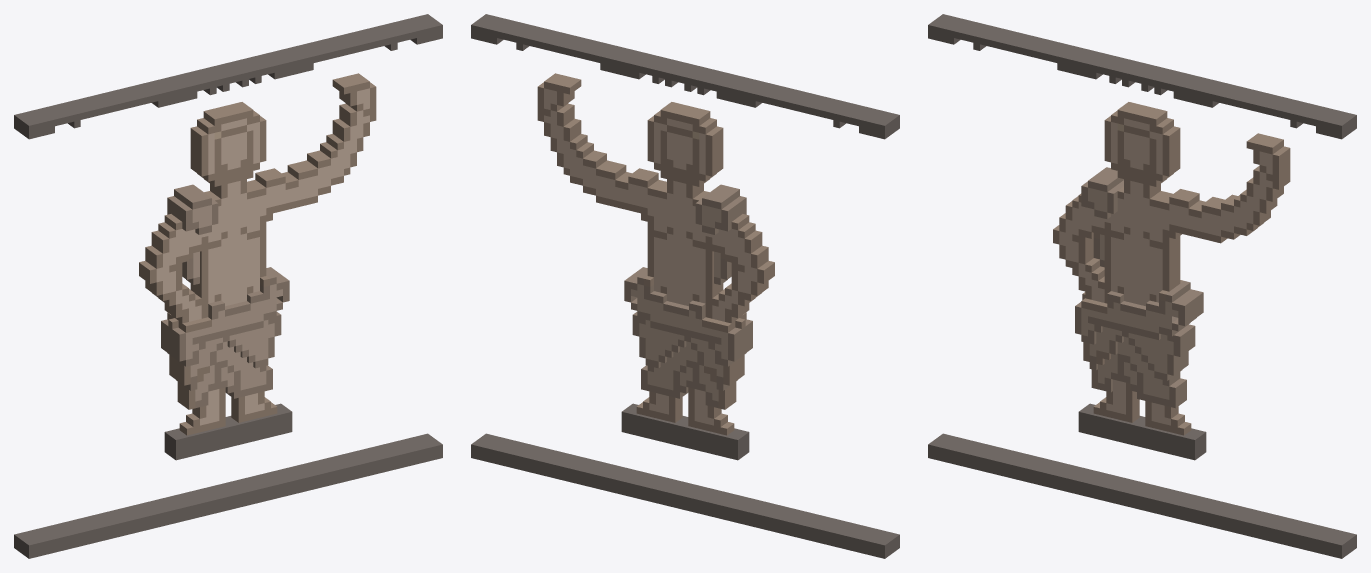
Rendered from PoseidonOfMelos.fbx.
3 views of the same model, side by side, from view 1: azimuth 30°, elevation 25°; view 2: azimuth 150°, elevation 25°; view 3: azimuth 330°, elevation 25° (orthographic).
Parts seen in each view (by area): view 1: generated; view 2: generated; view 3: generated.
Part boxes in pixels (<box>): generated: <box>14,14,442,558</box>; generated: <box>471,14,899,558</box>; generated: <box>928,14,1356,558</box>.
Bounding box in the file's own units: 64 × 64 × 5.
